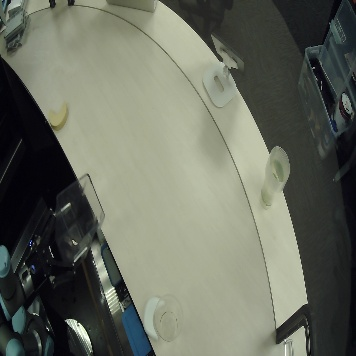empty_cup: (255, 146, 290, 209), (154, 294, 184, 340)
puck: (143, 294, 165, 339), (48, 104, 69, 131)
